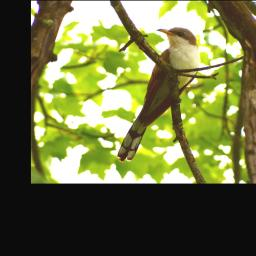Cuckoo: (117, 27, 201, 163)
